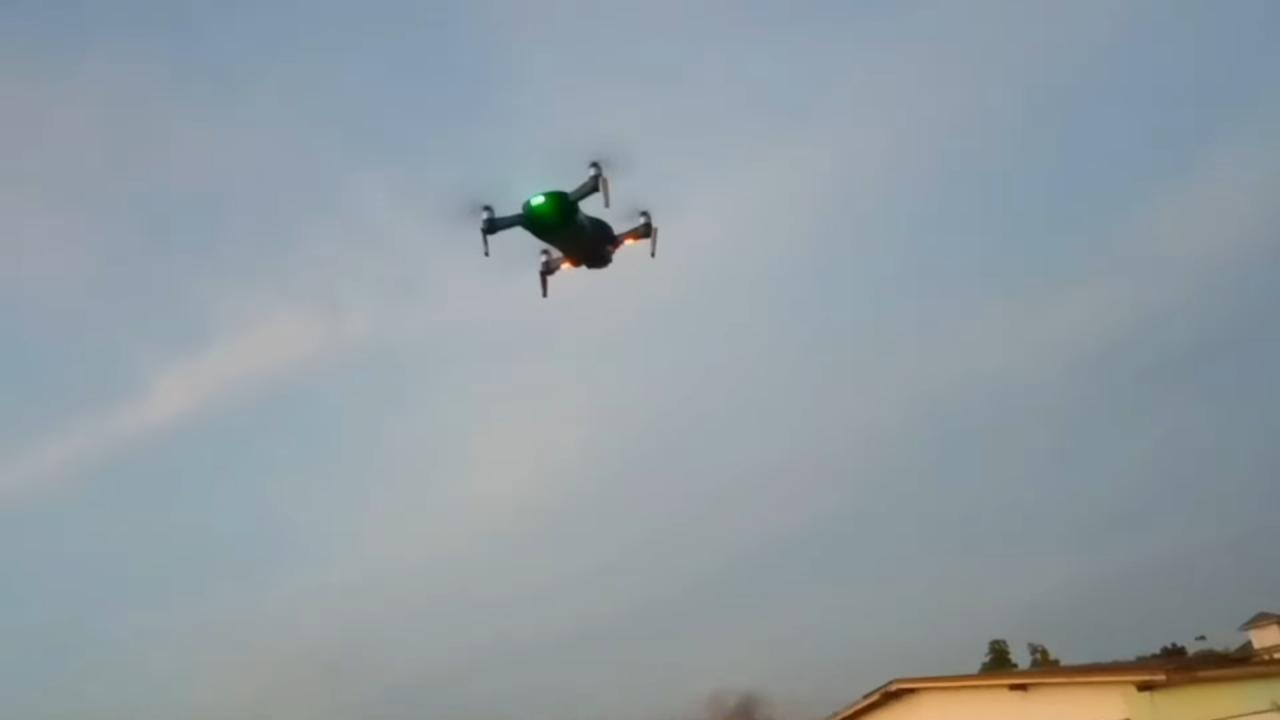Drone: (443, 137, 693, 314)
